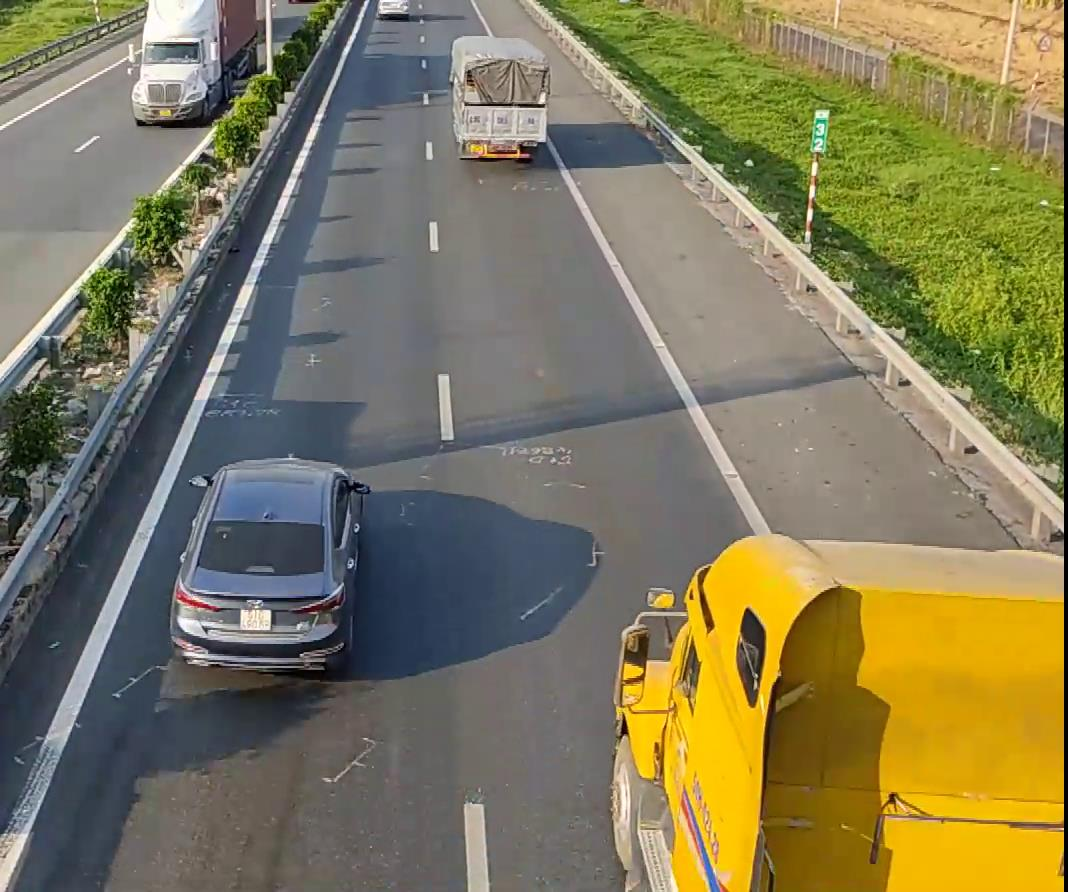car: (167, 455, 366, 674)
container: (605, 529, 1053, 890), (126, 0, 272, 124)
truck: (447, 33, 550, 160)
